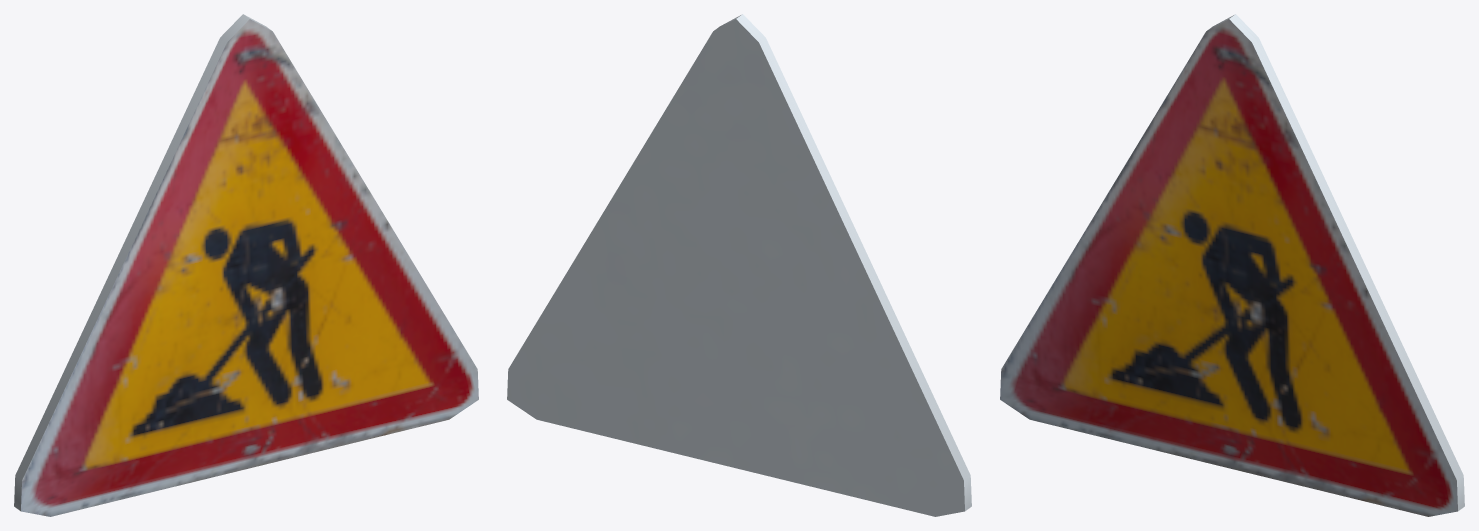
The model's file is SIgnBoard_1.fbx.
3 renders of one model, left to right at view 1: azimuth 30°, elevation 25°; view 2: azimuth 150°, elevation 25°; view 3: azimuth 330°, elevation 25°, orthographic.
Visible parts, largest first — view 1: SIgnBoard_1; view 2: SIgnBoard_1; view 3: SIgnBoard_1.
Part boxes in pixels (x1,y1,x2,y2): SIgnBoard_1: [14, 14, 478, 516]; SIgnBoard_1: [507, 14, 971, 516]; SIgnBoard_1: [1000, 14, 1464, 516].
Bounding box in the file's own units: 0.9863 × 0.9245 × 0.0255.
